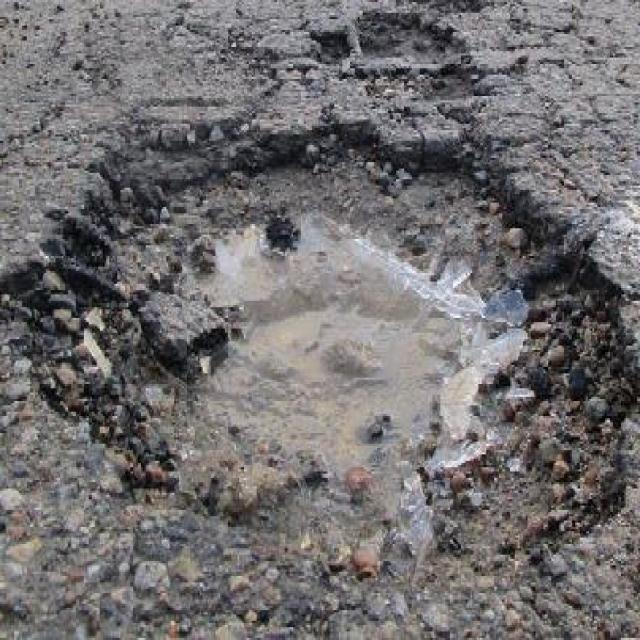pothole: (5, 110, 640, 584), (311, 0, 500, 119)
